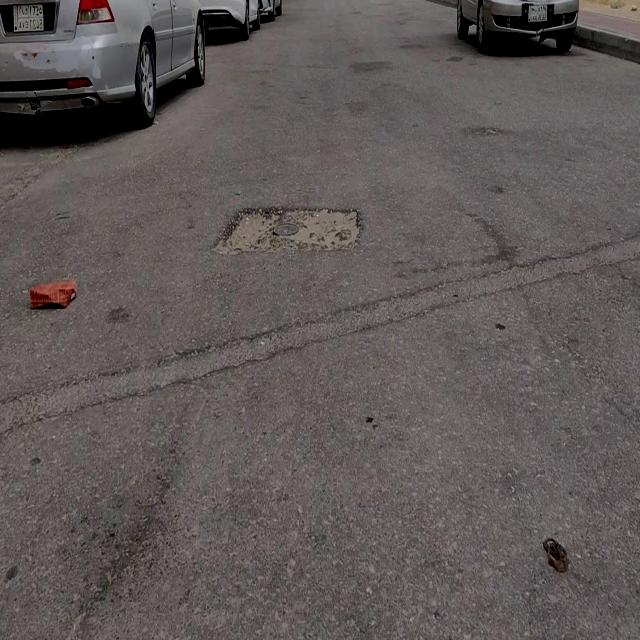Potholes: (221, 207, 362, 254)
